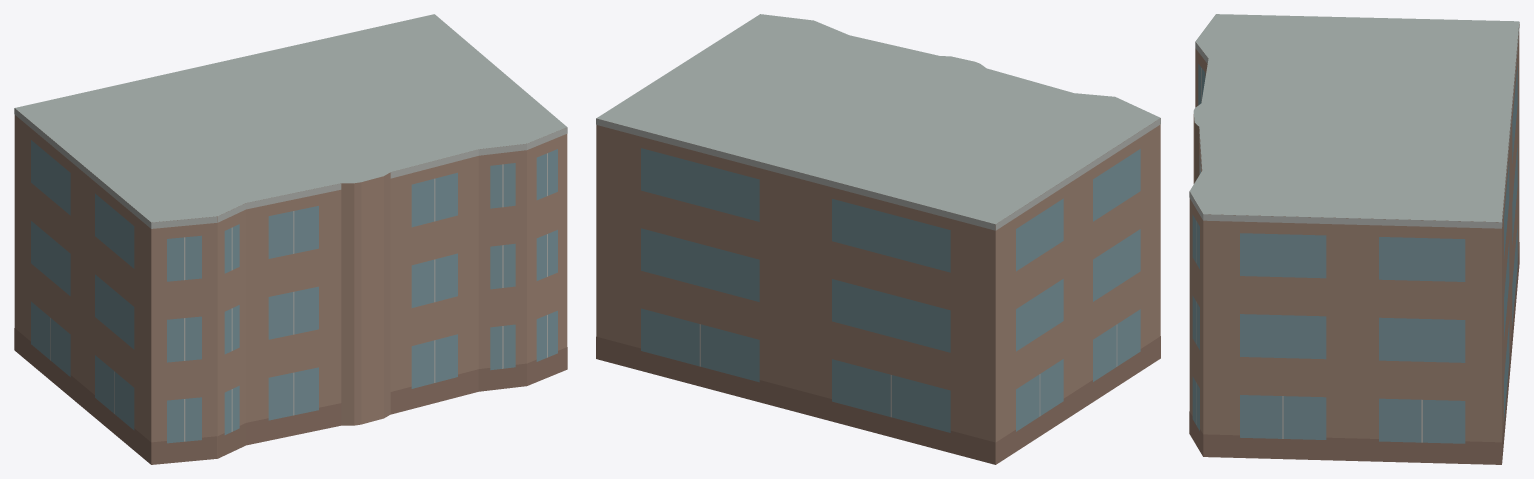
File: survey-upis-32599953.glb
3 views of the same model, side by side, from view 1: azimuth 30°, elevation 25°; view 2: azimuth 150°, elevation 25°; view 3: azimuth 270°, elevation 25° (orthographic).
Parts seen in each view (by area): view 1: survey-upis-32599953.tmp; view 2: survey-upis-32599953.tmp; view 3: survey-upis-32599953.tmp.
Part boxes in pixels (x1,y1,x2,y2): survey-upis-32599953.tmp: (14,14,567,464); survey-upis-32599953.tmp: (596,14,1160,464); survey-upis-32599953.tmp: (1189,14,1519,464).
Size of the model in its own units: 16.85 by 9.15 by 11.28.
